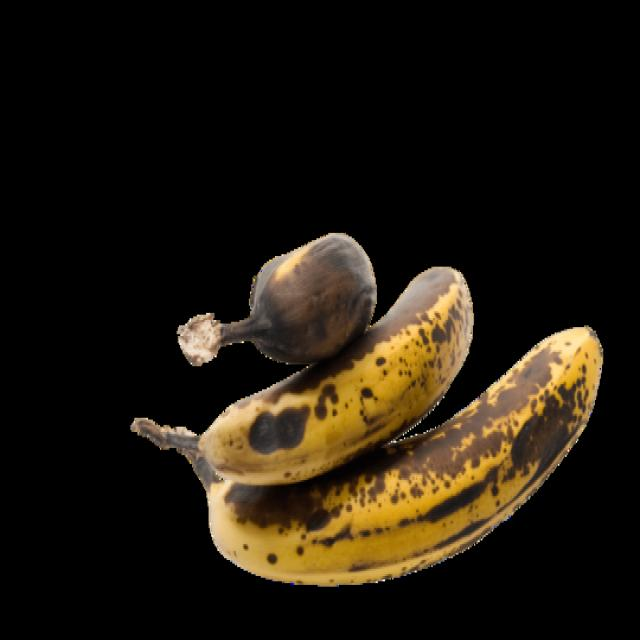banana: (182, 328, 604, 587), (176, 267, 475, 489), (202, 234, 377, 365)
